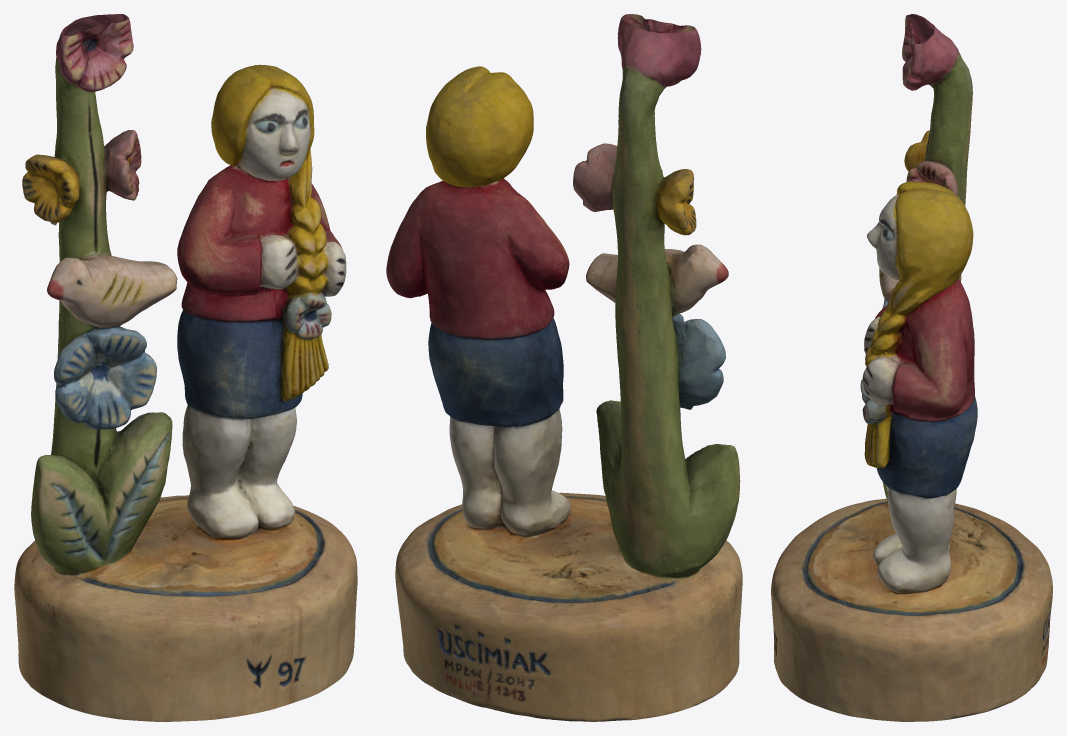
Rendered from MPLW_E_1213_lowpoly.glb.
3 renders of one model, left to right at view 1: azimuth 30°, elevation 25°; view 2: azimuth 150°, elevation 25°; view 3: azimuth 270°, elevation 25°, orthographic. The views are drawn at different scales.
Parts seen in each view (by area): view 1: MPLW_E_1213_lowpoly; view 2: MPLW_E_1213_lowpoly; view 3: MPLW_E_1213_lowpoly.
Boxes of the visible parts, x1=… form: MPLW_E_1213_lowpoly: x1=14, y1=14, x2=357, y2=721; MPLW_E_1213_lowpoly: x1=386, y1=14, x2=742, y2=721; MPLW_E_1213_lowpoly: x1=771, y1=14, x2=1052, y2=721.
Bounding box in the file's own units: 0.1296 × 0.2518 × 0.1093.
Materials: 1 (1 with a texture image).
